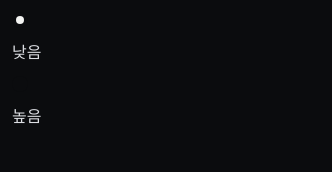
Scenario: 연결된 라벨과 키보드로 하나를 선택하고 비활성화를 지원한다
Later steps or results of the test are not shown.
Click the 1st radio button named "낮음".
click(20, 20)  # box x1=12 y1=12 x2=28 y2=28
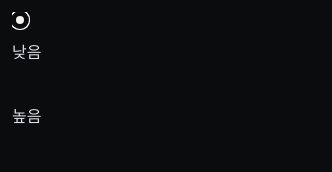
Radix가 다음 작업에서 초점을 이동할 때까지 키를 누른 상태로 둔다.
Type keys "{ArrowRight>}"
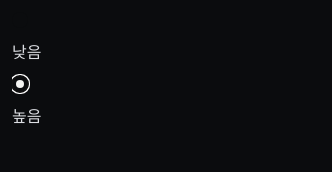
Check: the 2nd radio button named "높음" is checked, box x1=12 y1=76 x2=28 y2=92
